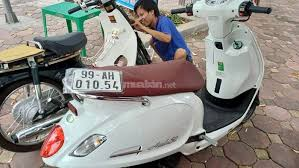Bien-so: (73, 69, 122, 91)
